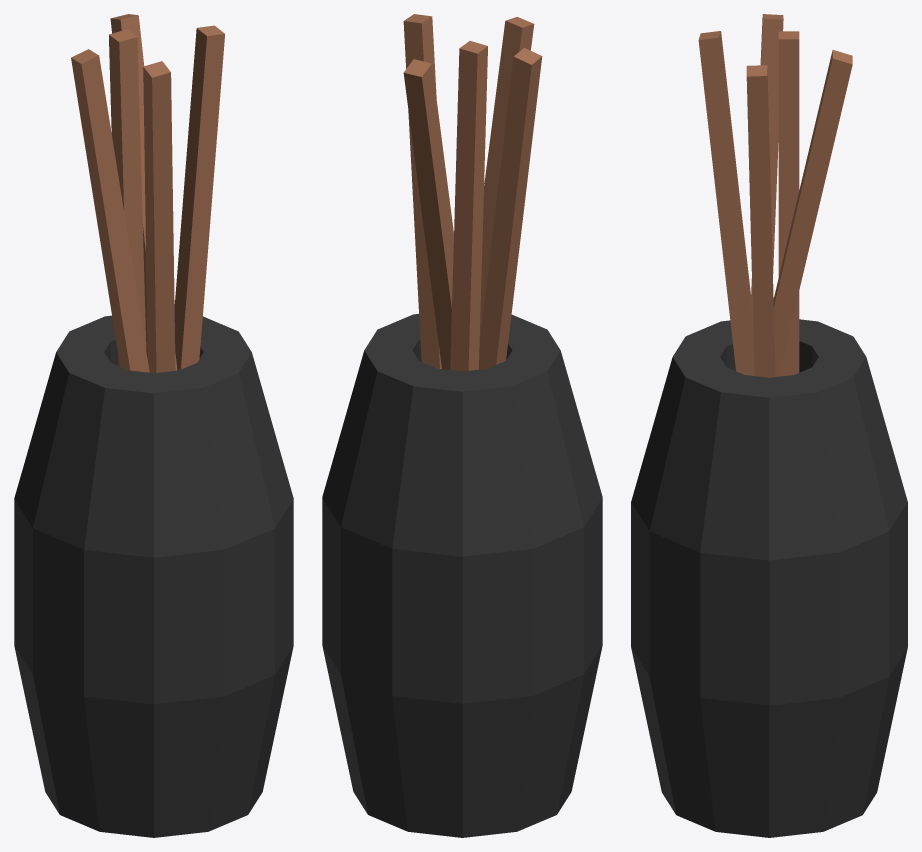
Rendered from Fragrance_Sticks.fbx.
3 views of the same model, side by side, from view 1: azimuth 30°, elevation 25°; view 2: azimuth 150°, elevation 25°; view 3: azimuth 270°, elevation 25° (orthographic).
Parts seen in each view (by area): view 1: Fragrance_Sticks; view 2: Fragrance_Sticks; view 3: Fragrance_Sticks.
Part boxes in pixels (x1,y1,x2,y2): Fragrance_Sticks: (14, 14, 293, 837); Fragrance_Sticks: (322, 14, 602, 837); Fragrance_Sticks: (631, 14, 907, 837).
Bounding box in the file's own units: 0.0242 × 0.0721 × 0.0242.
